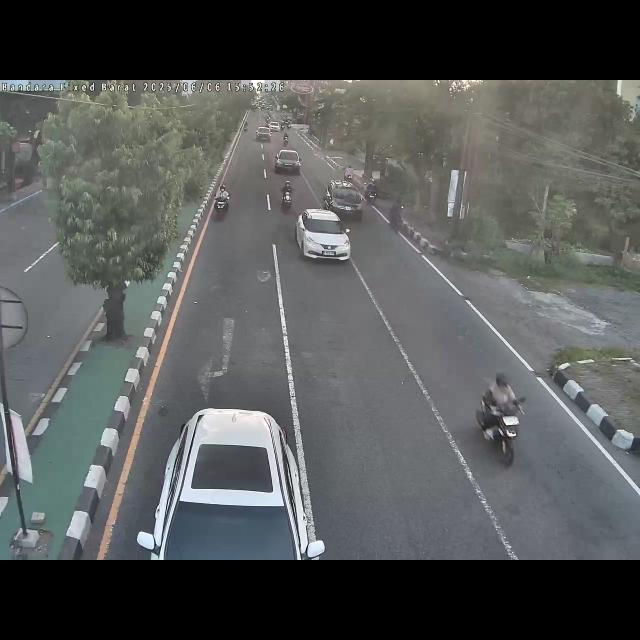Mobil: (138, 410, 326, 560), (294, 207, 351, 261), (322, 180, 362, 220), (274, 150, 302, 177), (254, 126, 272, 142), (268, 120, 280, 132)
Motor: (475, 371, 525, 465), (213, 185, 230, 219), (386, 202, 402, 234), (280, 180, 294, 212), (343, 165, 355, 181), (282, 133, 290, 147), (244, 120, 248, 132), (281, 121, 285, 131), (287, 120, 291, 130)
